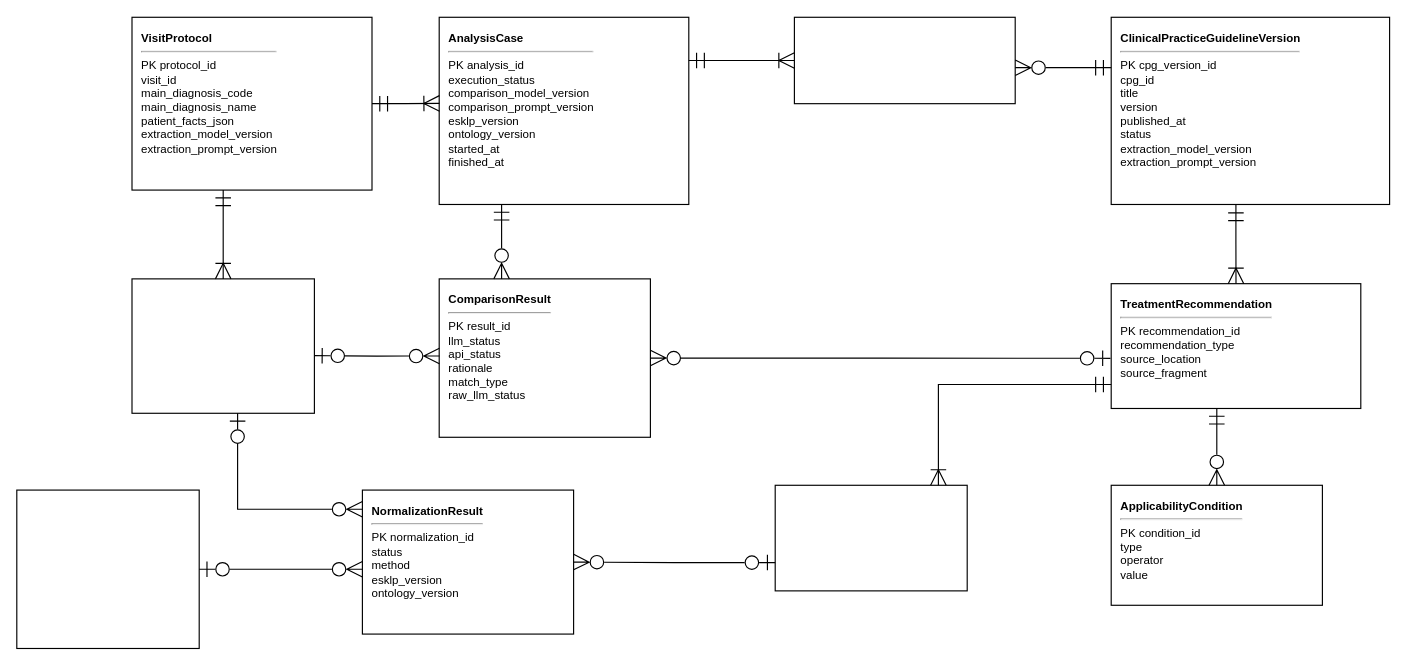
Some shapes in this 1407 by 665 pixel diagram are drawn without their labels. The centre of each missing label's shape, as x and y in pixels:
AnalysisGuidelineUsage PK usage_id is_primary: the point at 904,60
MedicationMention PK mention_id raw_text mention_type: the point at 870,537
MedicationOrder PK order_id raw_name dose route indication: the point at 222,345
MedicinalEntity PK entity_id entity_type inn smnn_id atc ftg: the point at 107,569
